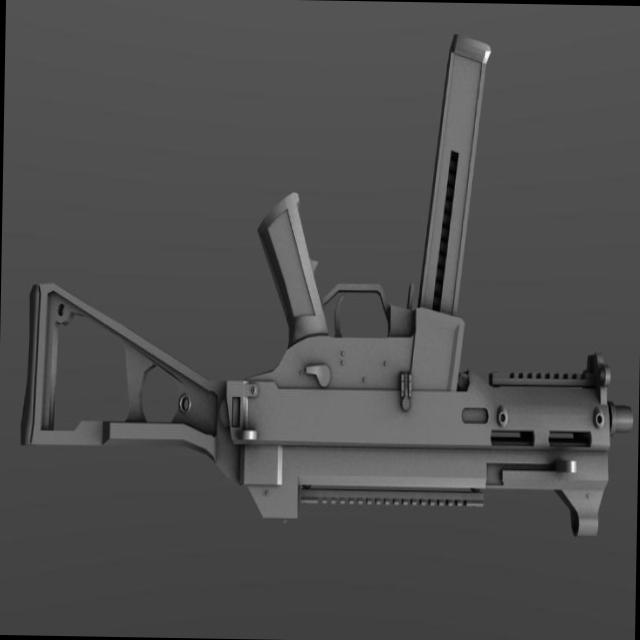Gun: (20, 77, 640, 571)
